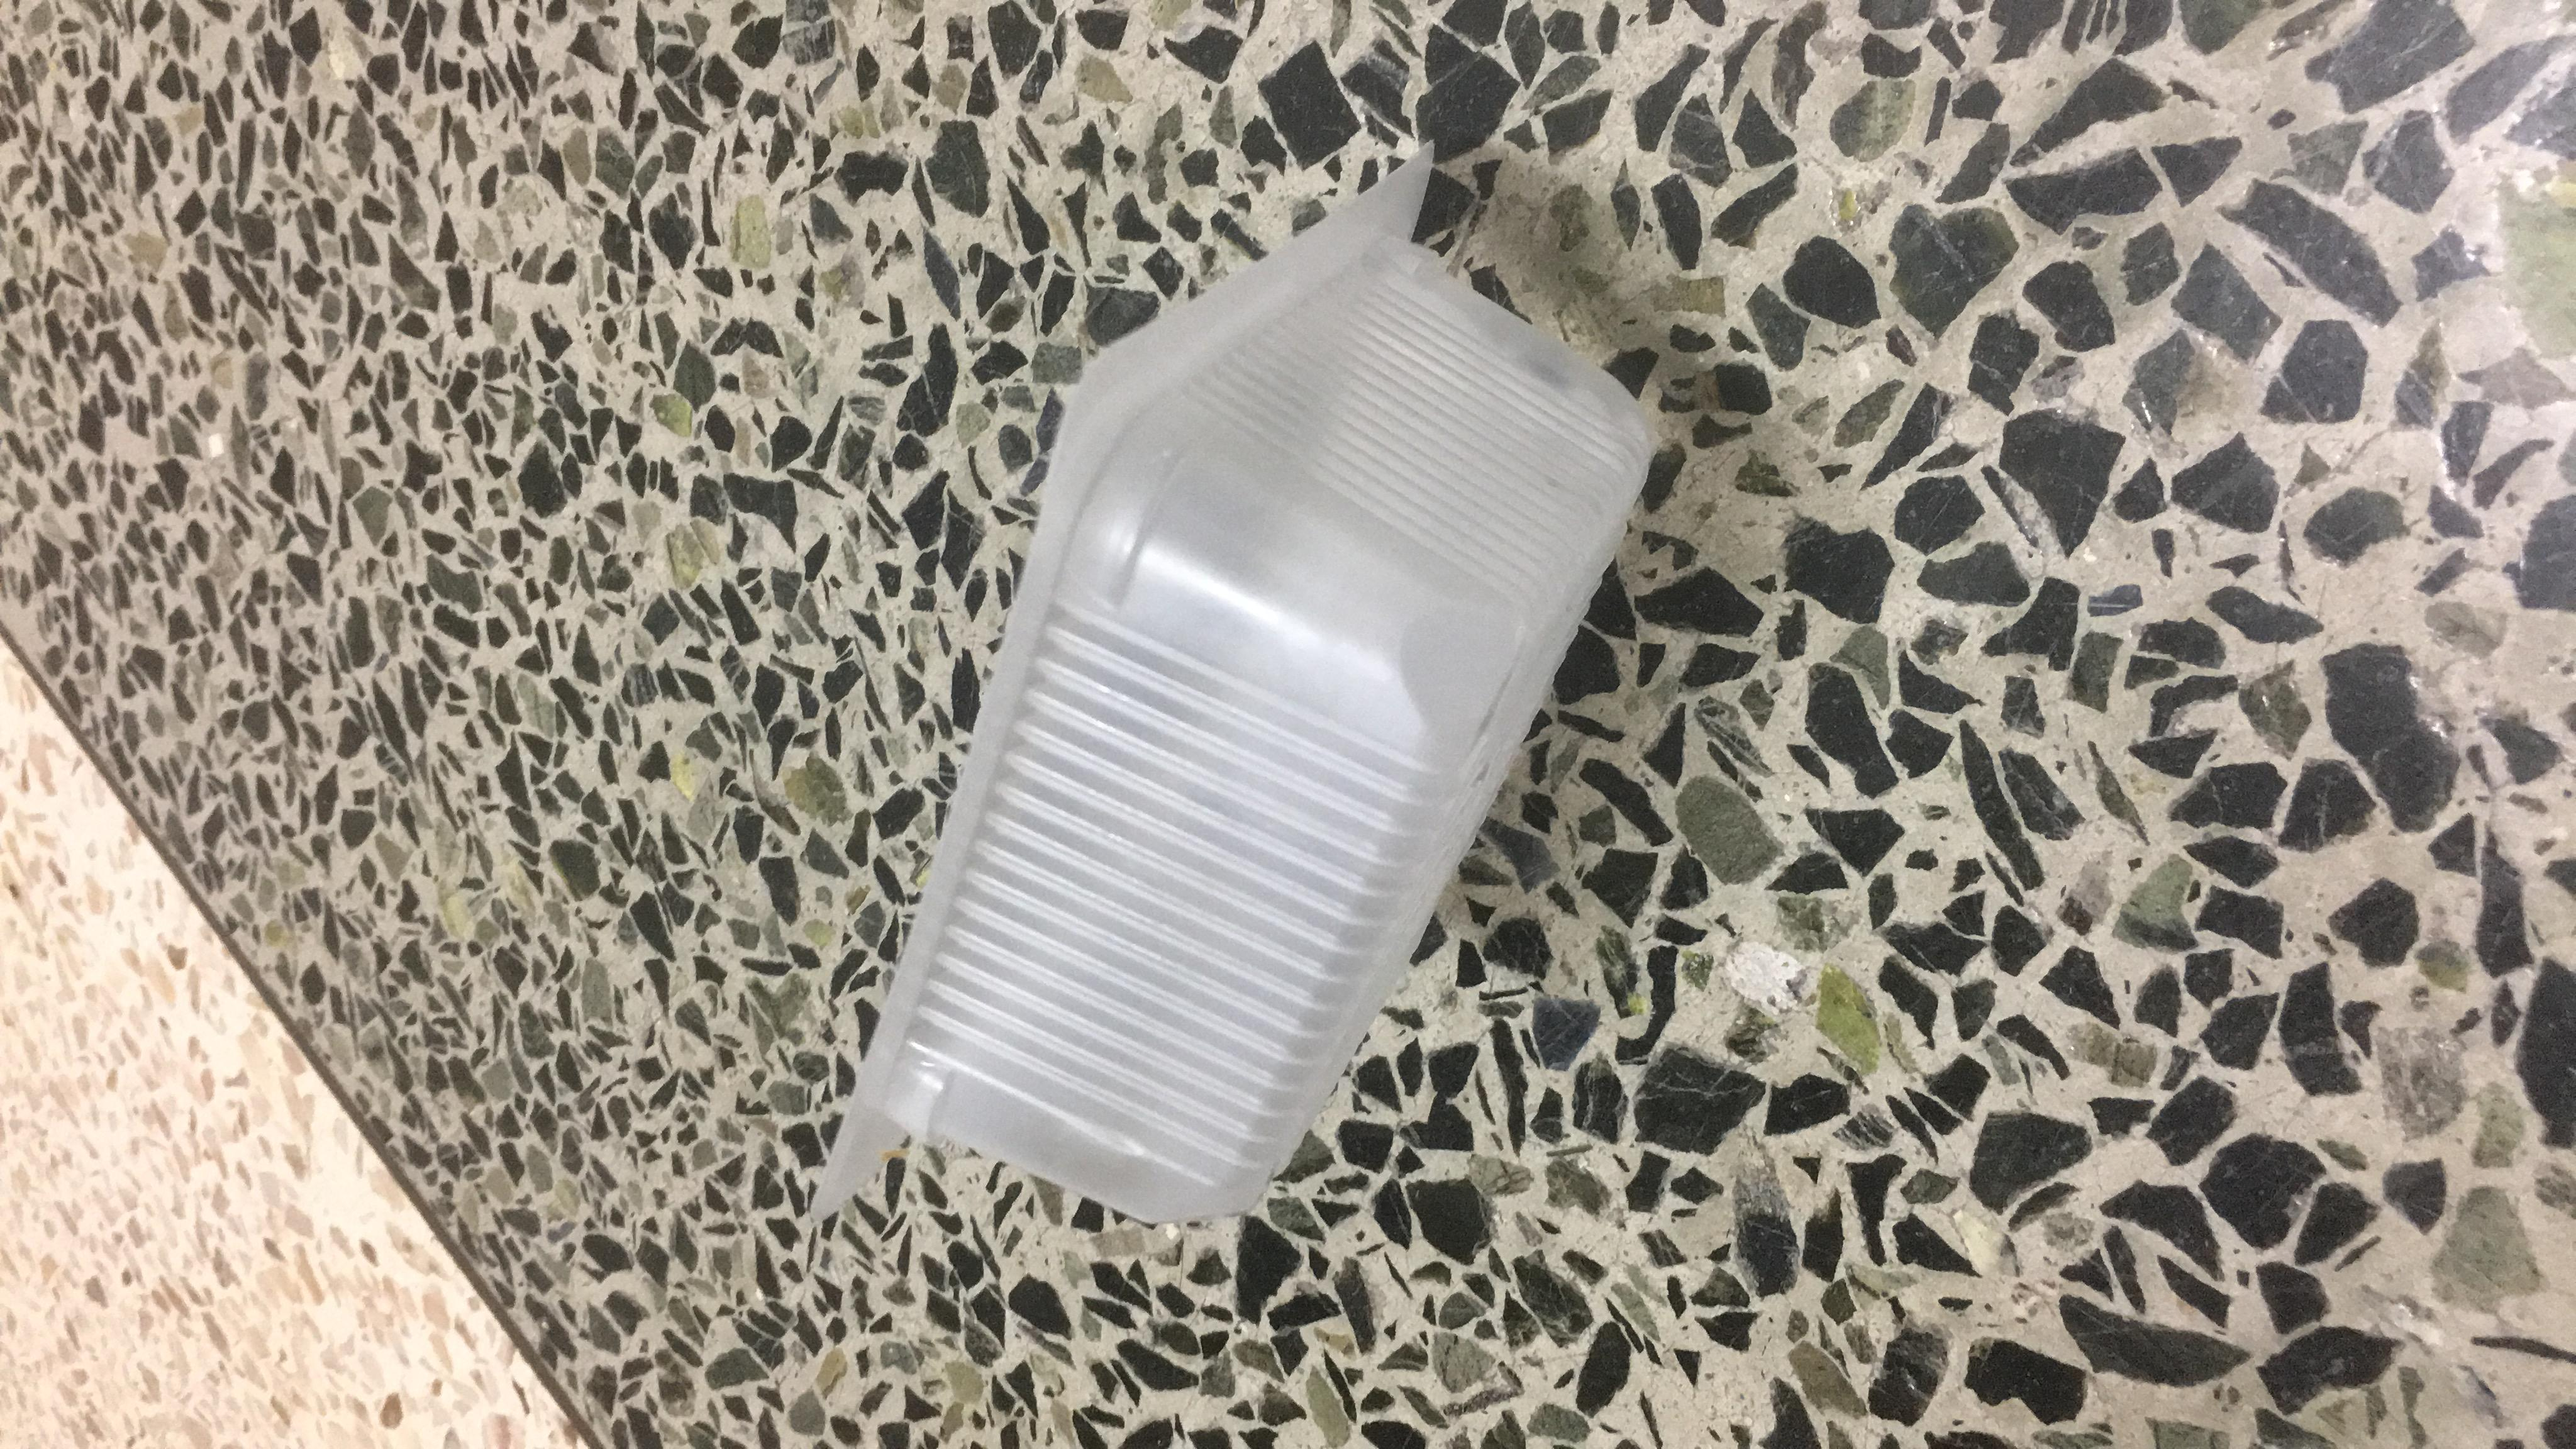bottle: (262, 451, 2268, 893)
